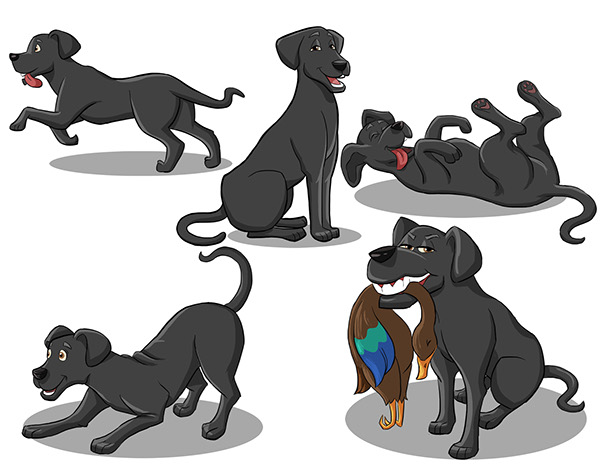dog: (348, 209, 596, 452), (17, 274, 302, 459), (343, 91, 600, 250), (23, 44, 234, 172), (240, 23, 355, 246)
